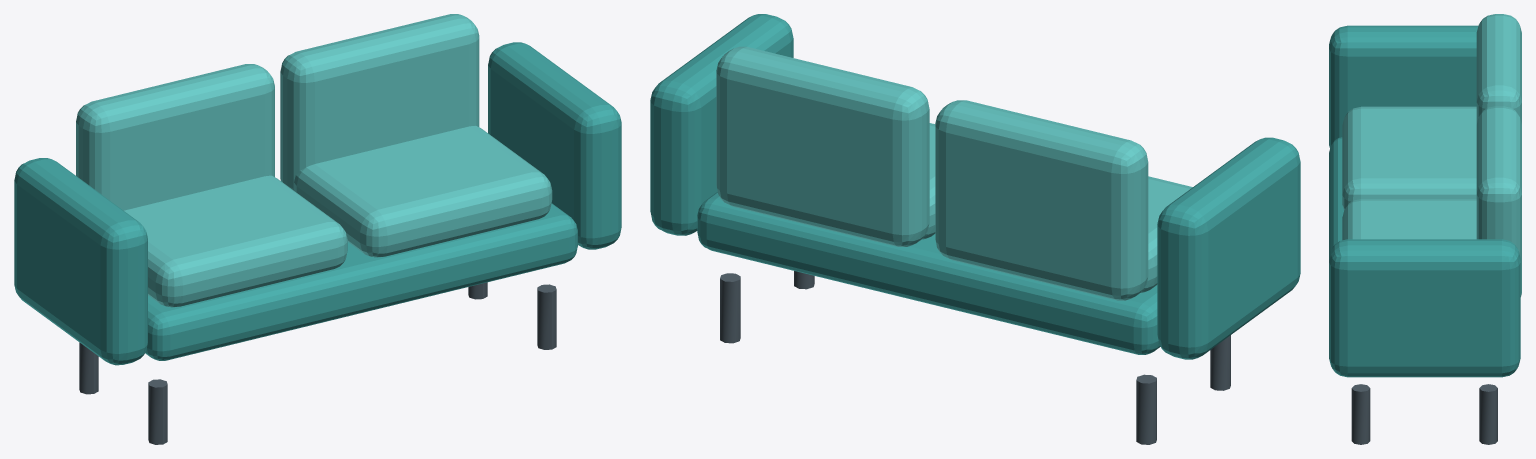
The model's file is sofa.glb.
The picture shows the model from 3 angles, left to right: view 1: azimuth 30°, elevation 25°; view 2: azimuth 150°, elevation 25°; view 3: azimuth 270°, elevation 25°; orthographic projection. The views are drawn at different scales.
Parts seen in each view (by area): view 1: back_right, seat_base, back_left, seat_right, arm_left, seat_left, arm_right, leg_0.78_0.24, leg_-0.78_0.24, leg_-0.78_-0.24; view 2: back_right, back_left, seat_base, arm_left, arm_right, seat_left, leg_0.78_-0.24, leg_-0.78_-0.24, leg_-0.78_0.24, seat_right; view 3: arm_right, arm_left, seat_left, back_right, seat_right, back_left, seat_base, leg_0.78_0.24, leg_0.78_-0.24.
Part boxes in pixels (box(x1,y1,x2,y2)): back_right: box(280, 14, 479, 190); seat_base: box(145, 203, 577, 360); back_left: box(76, 64, 274, 210); seat_right: box(294, 125, 552, 257); arm_left: box(14, 158, 147, 365); seat_left: box(124, 175, 347, 307); arm_right: box(488, 42, 621, 249); leg_0.78_0.24: box(537, 284, 556, 349); leg_-0.78_0.24: box(148, 379, 167, 444); leg_-0.78_-0.24: box(79, 342, 98, 394); back_right: box(716, 46, 929, 246); back_left: box(935, 100, 1148, 300); seat_base: box(697, 192, 1160, 354); arm_left: box(1157, 137, 1300, 359); arm_right: box(650, 14, 793, 235); seat_left: box(1140, 176, 1192, 292); leg_0.78_-0.24: box(720, 273, 740, 343); leg_-0.78_-0.24: box(1136, 374, 1156, 444); leg_-0.78_0.24: box(1210, 335, 1230, 390); seat_right: box(921, 123, 935, 239); arm_right: box(1329, 239, 1520, 377); arm_left: box(1329, 25, 1478, 147); seat_left: box(1342, 106, 1476, 210); back_right: box(1476, 106, 1521, 296); seat_right: box(1342, 199, 1476, 240); back_left: box(1476, 14, 1521, 123); seat_base: box(1329, 137, 1343, 257); leg_0.78_0.24: box(1351, 384, 1370, 444); leg_0.78_-0.24: box(1479, 384, 1497, 444).
Bounding box in the file's own units: 2.08 × 1.07 × 0.725.
